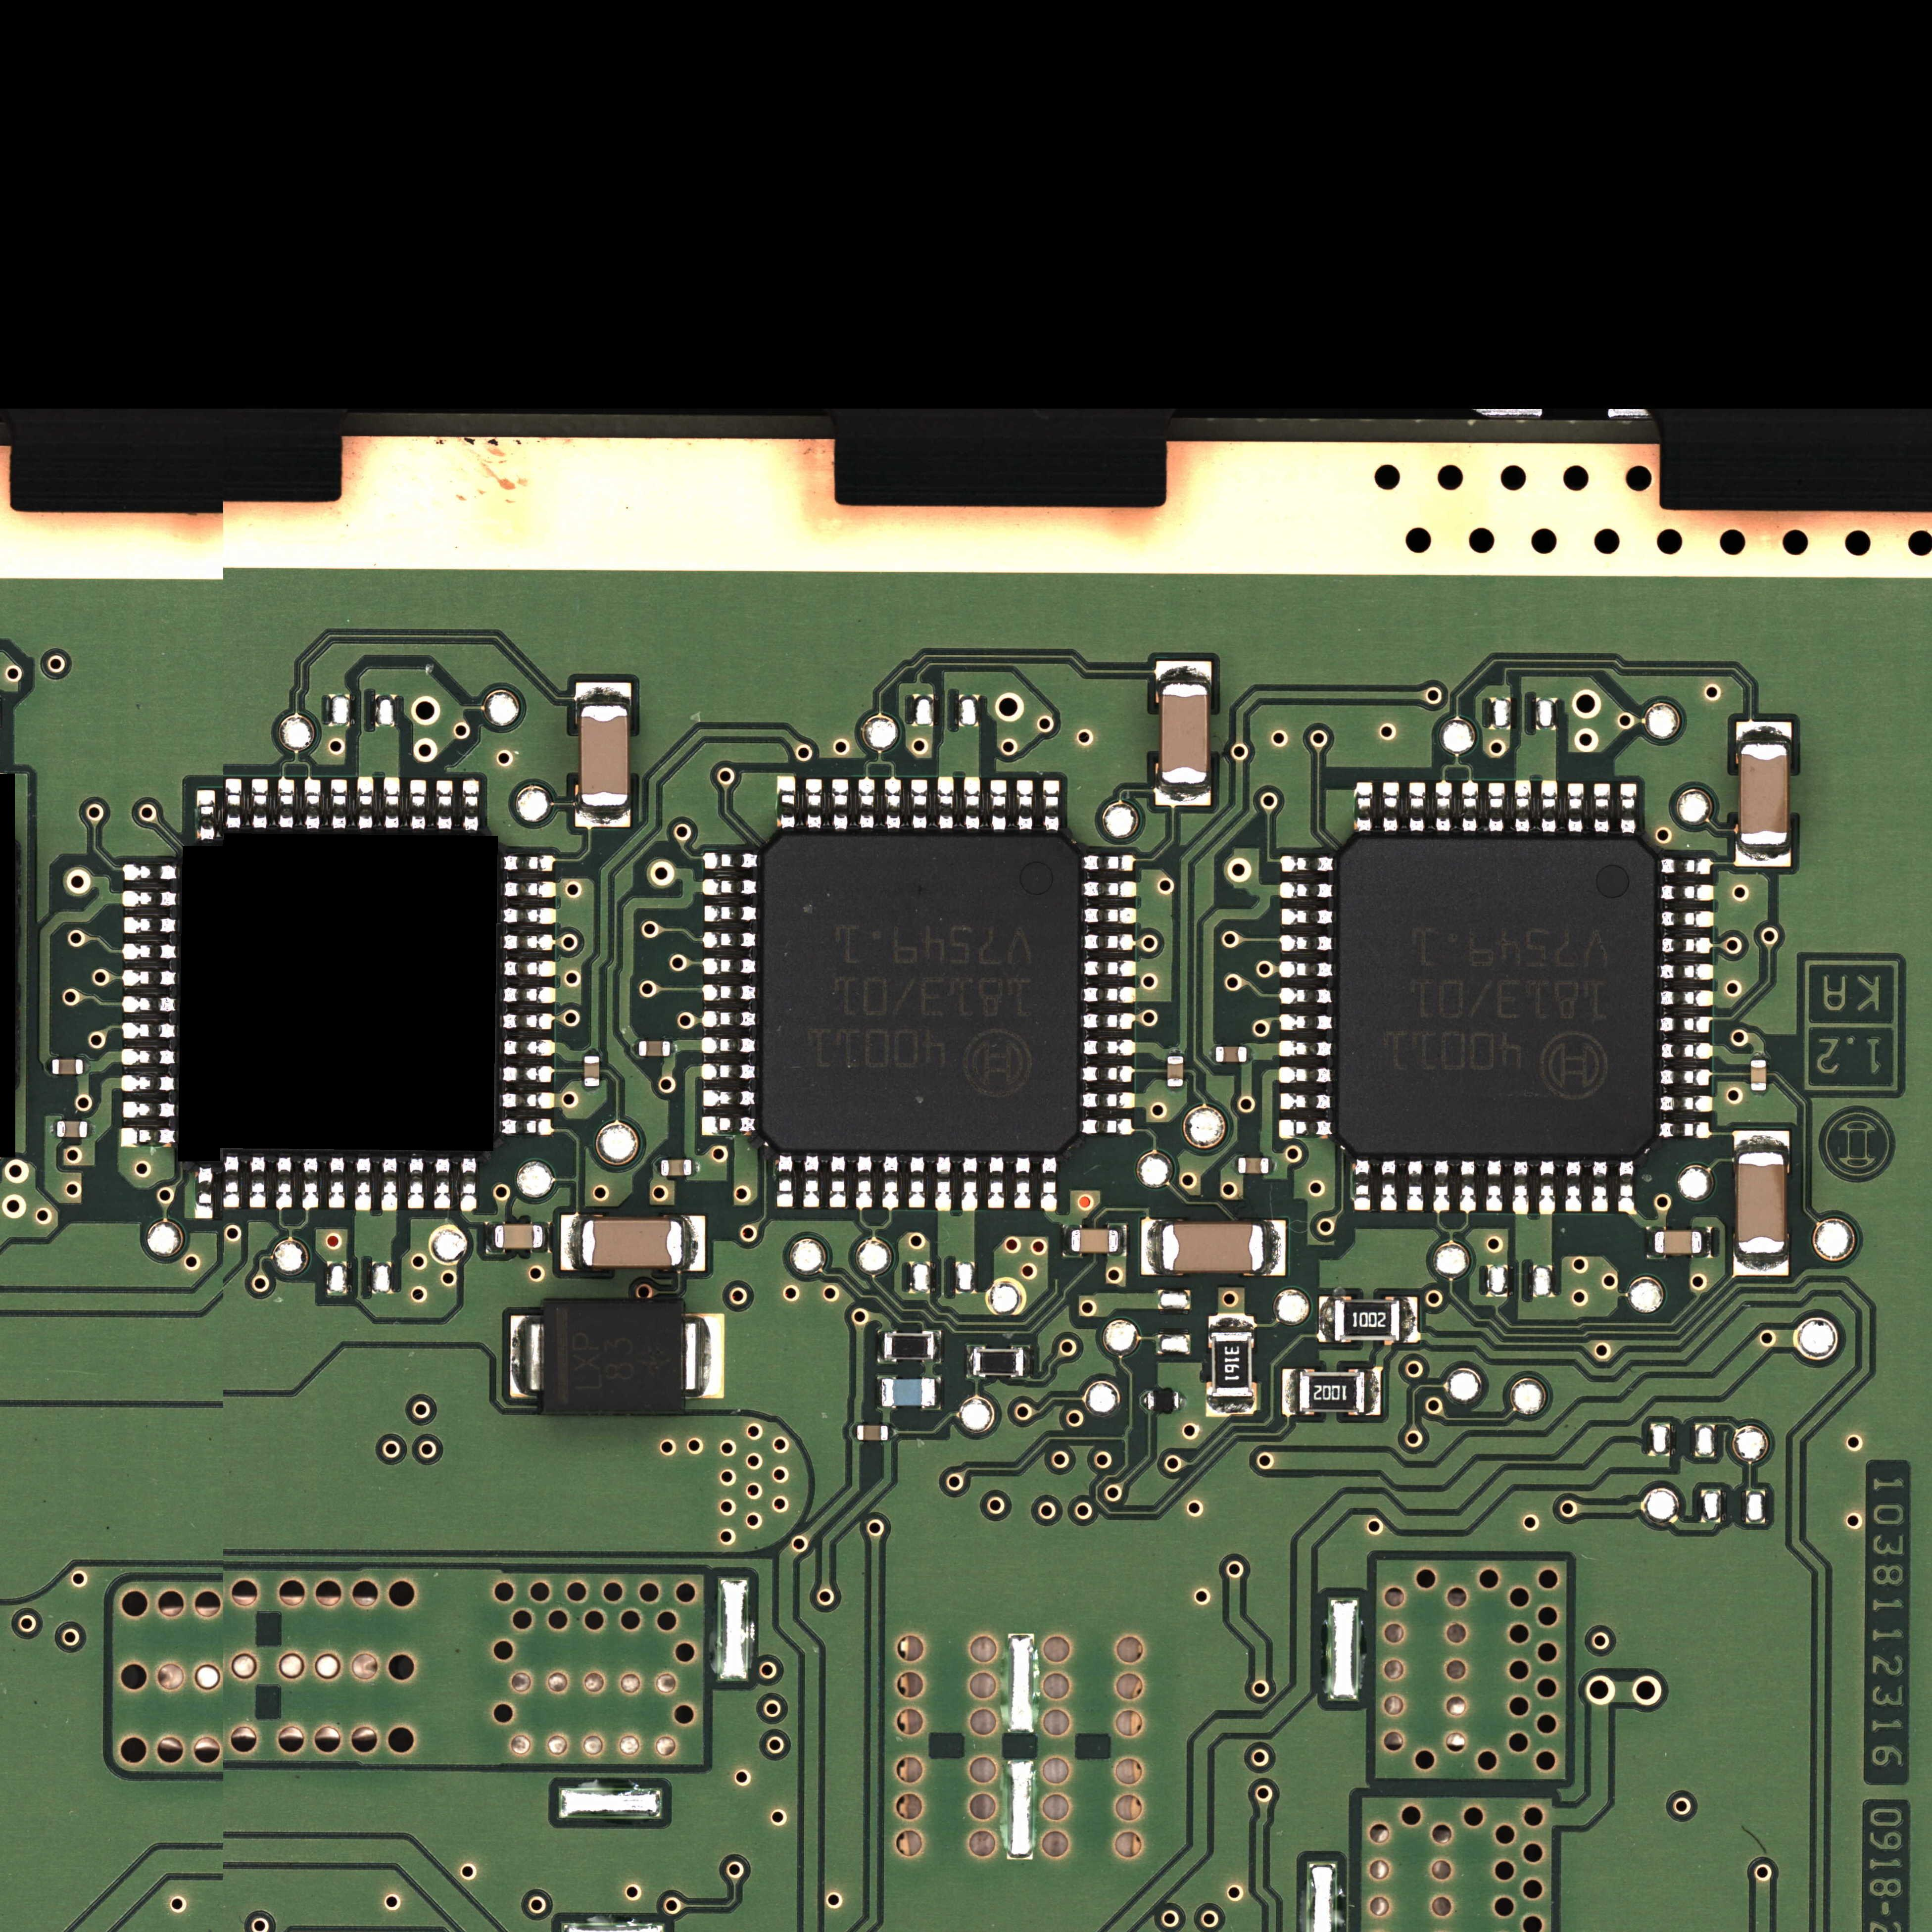Package: (1334, 835, 1658, 1159), (759, 832, 1081, 1154), (543, 1302, 683, 1414), (1161, 1223, 1263, 1272), (580, 1219, 683, 1267), (1737, 1152, 1785, 1253), (580, 706, 628, 805), (1161, 685, 1208, 784), (1741, 745, 1787, 844), (1210, 1332, 1253, 1396), (1336, 1299, 1399, 1341), (1299, 1371, 1364, 1412), (881, 1378, 934, 1407), (973, 1348, 1023, 1375), (885, 1334, 934, 1359), (495, 1224, 541, 1249), (1654, 1231, 1702, 1254), (1070, 1230, 1118, 1253), (1148, 1392, 1178, 1410), (1215, 1046, 1247, 1062), (639, 1040, 671, 1056), (584, 1056, 600, 1086), (1238, 1157, 1269, 1173), (57, 1122, 87, 1138), (662, 1159, 692, 1175), (1168, 1056, 1184, 1086), (51, 1060, 83, 1074), (1752, 1060, 1766, 1092), (858, 1426, 888, 1440)
Solder: (685, 1315, 724, 1398), (510, 1316, 541, 1398), (575, 683, 632, 706), (683, 1215, 706, 1272), (1157, 662, 1212, 685), (1263, 1221, 1286, 1276), (1736, 722, 1792, 743), (1141, 1219, 1162, 1276), (701, 1115, 757, 1136), (575, 807, 630, 828), (1734, 1254, 1789, 1276), (1155, 784, 1210, 805), (1734, 1131, 1789, 1152), (1736, 846, 1790, 867), (561, 1215, 580, 1270), (777, 775, 796, 830), (961, 1155, 978, 1212), (701, 1037, 757, 1054), (701, 1063, 757, 1081), (196, 789, 216, 840), (702, 984, 757, 1001), (1081, 1092, 1136, 1109), (1081, 855, 1136, 872), (1279, 961, 1334, 978), (1279, 1014, 1334, 1031), (1660, 962, 1714, 980), (702, 931, 757, 948), (1279, 1120, 1334, 1138), (1660, 1042, 1714, 1060), (1658, 1122, 1713, 1139), (1279, 987, 1334, 1005), (702, 1010, 757, 1028), (1279, 881, 1334, 899), (702, 957, 757, 975), (1279, 934, 1334, 952), (1279, 1040, 1334, 1058), (1281, 908, 1334, 925), (702, 1090, 755, 1108), (1081, 1118, 1134, 1136), (1014, 1155, 1031, 1208), (1353, 1157, 1371, 1210), (1660, 1016, 1713, 1033), (1083, 1039, 1136, 1056), (1279, 1067, 1332, 1085), (832, 778, 849, 832), (1660, 989, 1713, 1007), (1081, 1065, 1134, 1083), (1083, 881, 1136, 899), (1083, 985, 1136, 1003), (1660, 858, 1713, 876), (1279, 1093, 1332, 1111), (1660, 1095, 1713, 1113), (1435, 780, 1453, 833), (1660, 936, 1713, 954), (858, 777, 876, 830), (987, 1155, 1005, 1208), (1461, 780, 1479, 833), (122, 1129, 175, 1146), (1042, 780, 1060, 832), (1382, 782, 1399, 833), (1083, 1012, 1134, 1030), (1660, 1069, 1711, 1086), (1355, 782, 1373, 833), (1380, 1159, 1398, 1210), (805, 778, 823, 830), (1085, 932, 1136, 950), (1488, 782, 1506, 833), (1408, 782, 1426, 833), (936, 1155, 952, 1212), (702, 853, 759, 869), (1539, 1159, 1555, 1215), (1040, 1155, 1056, 1212), (1399, 1297, 1419, 1343), (1207, 1398, 1256, 1415), (225, 778, 242, 828), (251, 778, 269, 828), (382, 778, 400, 828), (409, 778, 426, 828), (437, 780, 455, 830), (702, 879, 757, 895), (1513, 1159, 1529, 1214), (803, 1154, 819, 1208), (1660, 911, 1714, 927), (856, 1154, 872, 1208), (1619, 1159, 1635, 1214), (1660, 885, 1714, 901), (964, 777, 980, 832), (830, 1154, 846, 1208), (777, 1154, 793, 1208), (883, 1154, 899, 1208), (124, 863, 179, 879), (122, 945, 177, 961), (122, 1023, 177, 1039), (122, 1076, 177, 1092), (356, 1155, 372, 1210), (460, 1155, 476, 1210), (1281, 856, 1334, 872), (1083, 908, 1136, 924), (938, 777, 954, 830), (1460, 1159, 1476, 1212), (909, 1155, 925, 1208), (1541, 780, 1557, 833), (704, 906, 757, 922), (1486, 1159, 1502, 1212), (885, 777, 901, 830), (1592, 1159, 1608, 1212), (1514, 780, 1530, 833), (1433, 1159, 1449, 1212), (122, 1049, 175, 1065), (124, 970, 177, 985), (196, 1164, 212, 1217), (276, 1155, 292, 1208), (329, 1155, 345, 1208), (382, 1157, 398, 1210), (409, 1155, 425, 1208), (433, 1155, 449, 1208), (991, 780, 1007, 832), (1566, 1161, 1582, 1212), (1407, 1159, 1422, 1210), (1085, 961, 1136, 977), (1017, 780, 1033, 832), (1621, 784, 1637, 835), (911, 778, 927, 830), (464, 778, 479, 830), (249, 1155, 265, 1207), (303, 1155, 318, 1207), (504, 881, 556, 897), (504, 908, 556, 924), (504, 934, 556, 950), (504, 961, 556, 977), (504, 1014, 556, 1030), (502, 1093, 554, 1109), (1208, 1315, 1254, 1332), (1594, 784, 1610, 833), (1568, 784, 1583, 833), (278, 778, 294, 828), (304, 778, 320, 828), (331, 778, 347, 828), (357, 778, 373, 828), (504, 855, 554, 870), (124, 892, 179, 906), (122, 998, 177, 1012), (122, 1102, 177, 1116), (1366, 1368, 1382, 1415), (124, 918, 177, 932), (1283, 1369, 1299, 1415), (1318, 1297, 1334, 1343), (225, 1155, 239, 1207), (504, 1040, 556, 1054), (504, 987, 556, 1001), (502, 1067, 554, 1081), (502, 1120, 554, 1134), (1062, 1226, 1072, 1256), (485, 1223, 495, 1253), (1118, 1224, 1127, 1256), (1023, 1346, 1031, 1378), (934, 1330, 943, 1362), (1702, 1228, 1711, 1256), (1645, 1228, 1654, 1256), (934, 1376, 941, 1408), (878, 1330, 885, 1362), (966, 1346, 973, 1376), (543, 1223, 550, 1253), (876, 1378, 881, 1407), (87, 1122, 96, 1138), (1247, 1046, 1254, 1063), (692, 1159, 699, 1177), (1178, 1392, 1185, 1410), (1141, 1392, 1148, 1410), (655, 1159, 662, 1177), (1750, 1053, 1767, 1060), (1269, 1157, 1276, 1173), (44, 1058, 51, 1074), (83, 1058, 90, 1074), (1208, 1046, 1215, 1062), (632, 1040, 639, 1056), (584, 1049, 600, 1056), (1231, 1157, 1238, 1173), (1168, 1049, 1184, 1056), (1168, 1086, 1184, 1093), (584, 1086, 600, 1093), (50, 1122, 57, 1138), (1752, 1092, 1767, 1097), (671, 1040, 676, 1056), (851, 1424, 856, 1440), (888, 1426, 893, 1440)
